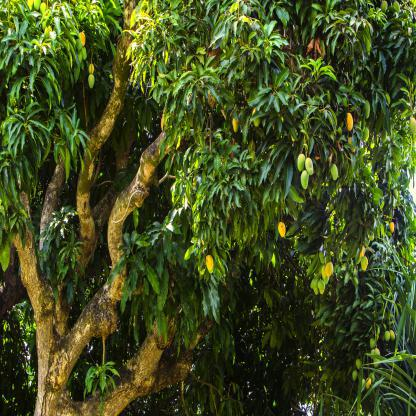mango: (345, 110, 354, 132), (276, 222, 288, 238), (205, 253, 215, 271), (324, 262, 334, 280), (78, 30, 87, 46), (389, 221, 397, 232)
